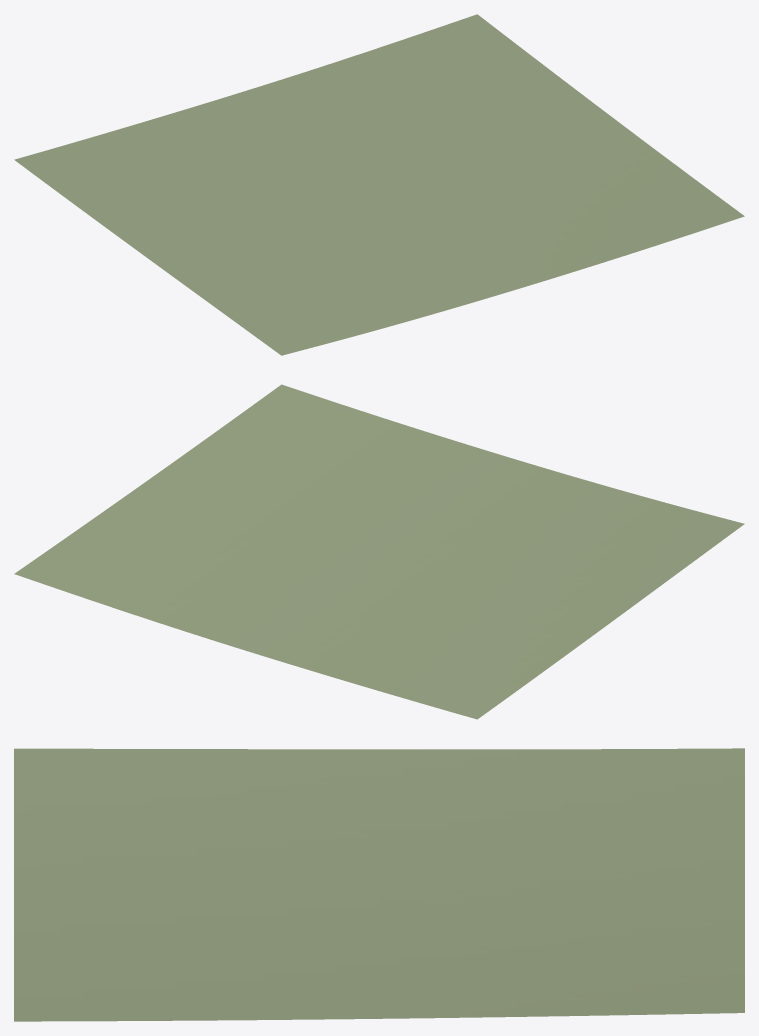
File: desert-10-21.glb
3 views of the same model, one above another, from view 1: azimuth 30°, elevation 25°; view 2: azimuth 150°, elevation 25°; view 3: azimuth 270°, elevation 25° (orthographic). The views are drawn at different scales.
Visible parts, largest first — view 1: desert-10-21; view 2: desert-10-21; view 3: desert-10-21.
Part boxes in pixels (bbox=[...]): desert-10-21: bbox=[14, 14, 744, 355]; desert-10-21: bbox=[14, 384, 744, 719]; desert-10-21: bbox=[14, 748, 744, 1021].
Bounding box in the file's own units: 512 × 35.04 × 512.
